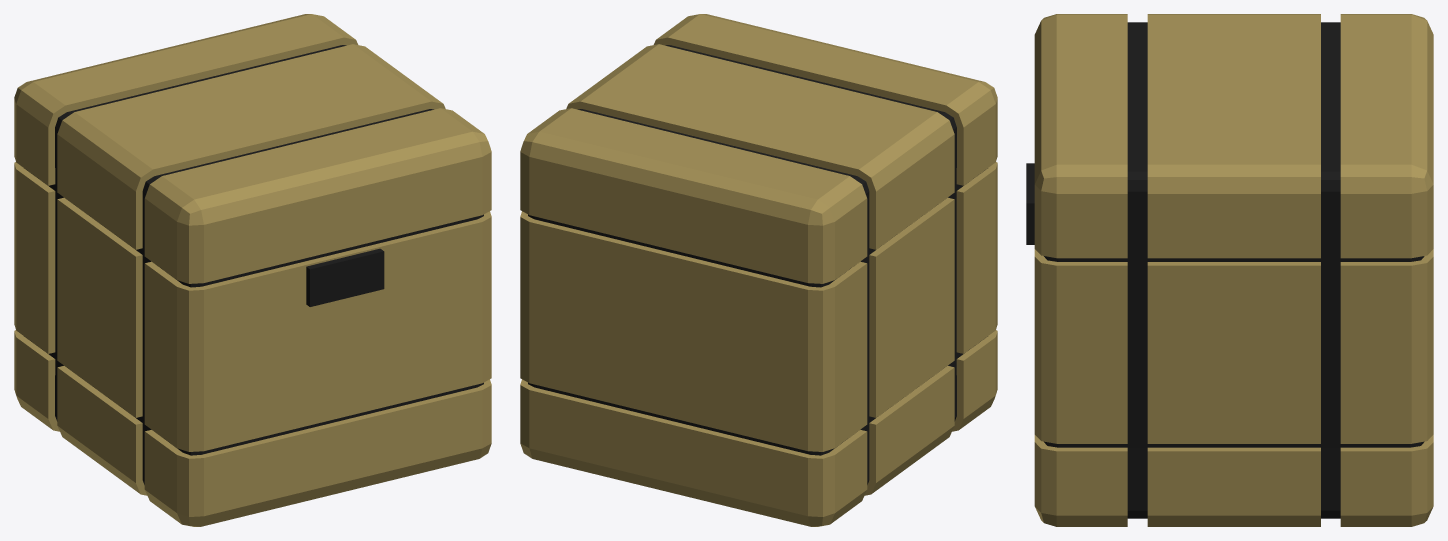
File: Crate.fbx
3 views of the same model, side by side, from view 1: azimuth 30°, elevation 25°; view 2: azimuth 150°, elevation 25°; view 3: azimuth 270°, elevation 25° (orthographic). The views are drawn at different scales.
Parts seen in each view (by area): view 1: Cube; view 2: Cube; view 3: Cube.
Boxes of the visible parts, <box> form: Cube: <box>14,14,491,526</box>; Cube: <box>520,14,997,526</box>; Cube: <box>1026,14,1433,526</box>.
Size of the model in its own units: 200 by 200 by 204.
